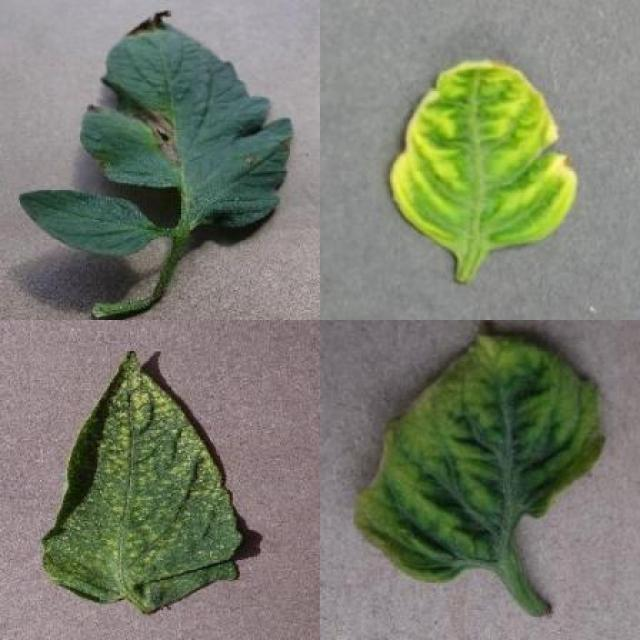Early Blight: (84, 8, 296, 233)
Spider Mites: (38, 347, 242, 616)
Yellow Leaf Curl Virus: (351, 332, 606, 582), (390, 58, 576, 252)
